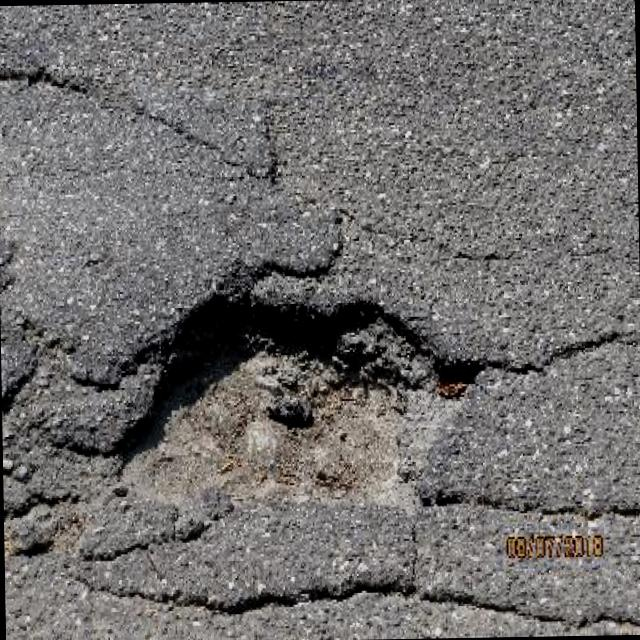Lubang: (112, 298, 482, 540)
